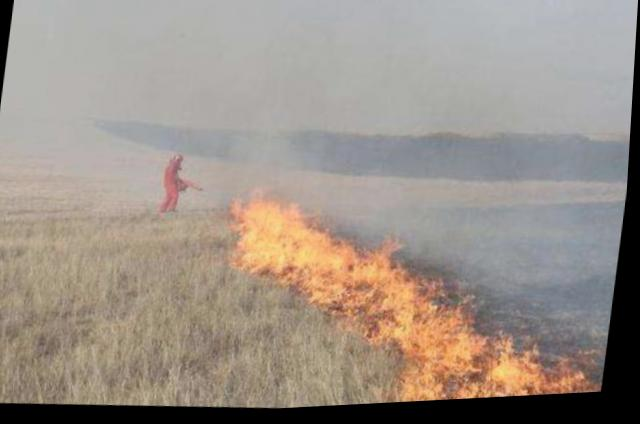fire: (207, 176, 627, 414)
